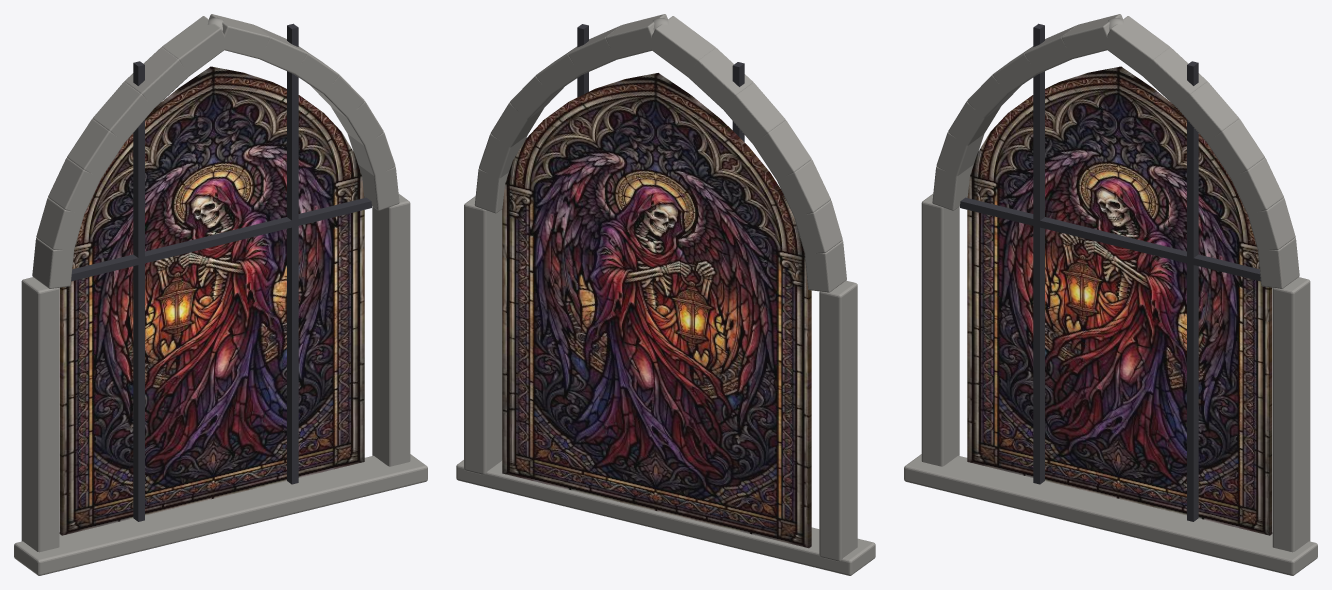
File: window_deco_stained_angel.glb
3 views of the same model, side by side, from view 1: azimuth 30°, elevation 25°; view 2: azimuth 150°, elevation 25°; view 3: azimuth 330°, elevation 25° (orthographic).
Visible parts, largest first — view 1: GD_window_deco_stained_angel__m1, GD_window_deco_stained_angel__m0, GD_window_deco_stained_angel__m2; view 2: GD_window_deco_stained_angel__m1, GD_window_deco_stained_angel__m0, GD_window_deco_stained_angel__m2; view 3: GD_window_deco_stained_angel__m1, GD_window_deco_stained_angel__m0, GD_window_deco_stained_angel__m2.
Part boxes in pixels (box(x1,y1,x2,y2)): GD_window_deco_stained_angel__m1: box(59, 66, 364, 535); GD_window_deco_stained_angel__m0: box(14, 14, 427, 575); GD_window_deco_stained_angel__m2: box(71, 23, 371, 521); GD_window_deco_stained_angel__m1: box(502, 73, 811, 548); GD_window_deco_stained_angel__m0: box(456, 14, 875, 575); GD_window_deco_stained_angel__m2: box(577, 24, 744, 141); GD_window_deco_stained_angel__m1: box(967, 66, 1272, 535); GD_window_deco_stained_angel__m0: box(904, 14, 1317, 575); GD_window_deco_stained_angel__m2: box(960, 23, 1260, 521).
Size of the model in its own units: 1.78 by 2.17 by 0.21.
3 materials, 1 textured.
